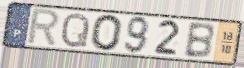2: (153, 19, 183, 59)
9: (124, 15, 152, 56)
B: (182, 22, 216, 60)
O: (90, 13, 125, 53)
Q: (59, 12, 92, 50)
R: (25, 7, 62, 49)
